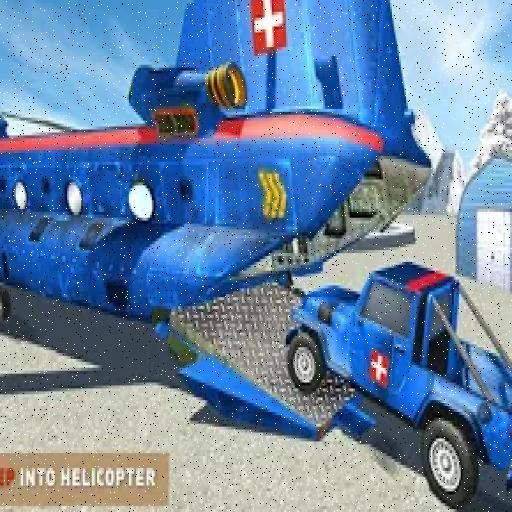helicopter: (1, 1, 414, 454)
